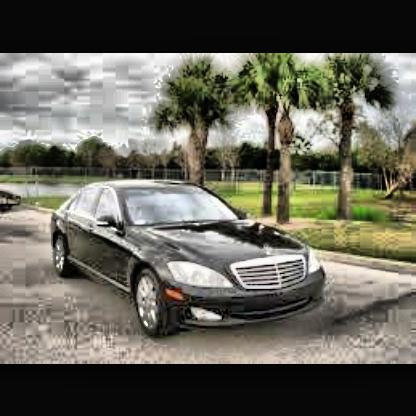Mercedes-Benz S-Class Sedan 2012: (53, 178, 330, 330)
